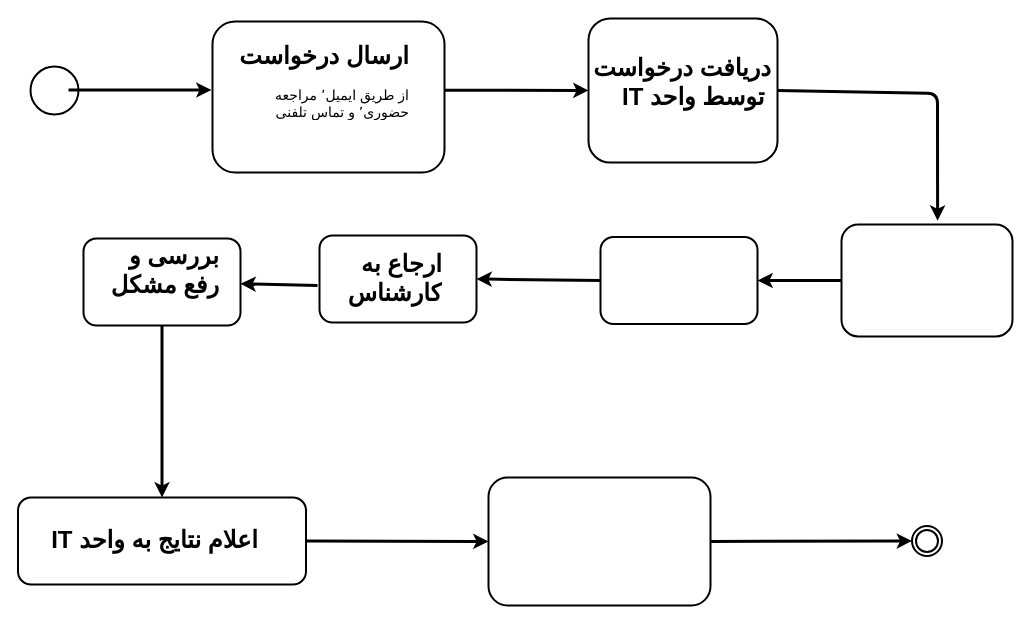
Some shapes in this 1031 by 623 pixel diagram are drawn without their labels. The shapes that lost their labels are listed below. From the top down, each one's box as (x1, y1, x2, y2) in pixels, then its label:
(599, 236, 758, 324): بررسی اولیه
(840, 223, 1013, 337): ثبت دستی درخواست
(487, 476, 711, 606): اطلاع رسانی به کاربر ایمیل٬ مراجعه حضوری٬ و تماس تلفنی
